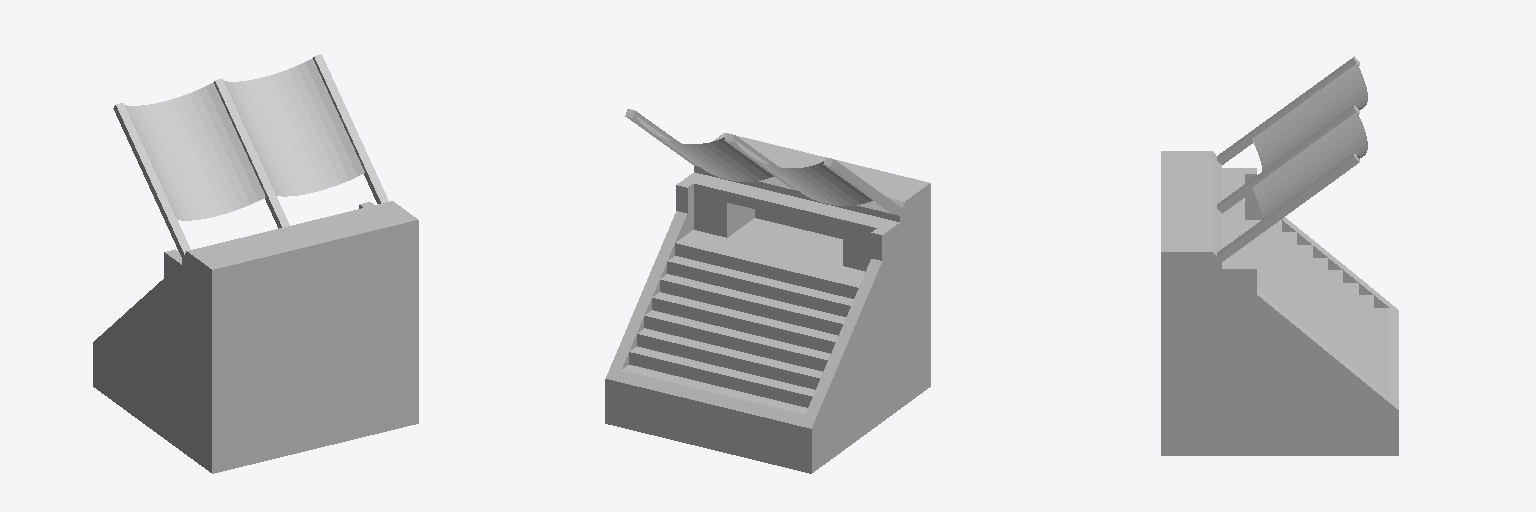
File: grandStandAwning_exclusive.obj
3 views of the same model, side by side, from view 1: azimuth 30°, elevation 25°; view 2: azimuth 150°, elevation 25°; view 3: azimuth 270°, elevation 25° (orthographic).
Parts seen in each view (by area): view 1: grandStandAwning_exclusive; view 2: grandStandAwning_exclusive; view 3: grandStandAwning_exclusive.
Part boxes in pixels (bbox=[...]): grandStandAwning_exclusive: bbox=[93, 54, 418, 473]; grandStandAwning_exclusive: bbox=[605, 109, 930, 473]; grandStandAwning_exclusive: bbox=[1161, 56, 1398, 455].
Bounding box in the file's own units: 10 × 13.85 × 10.